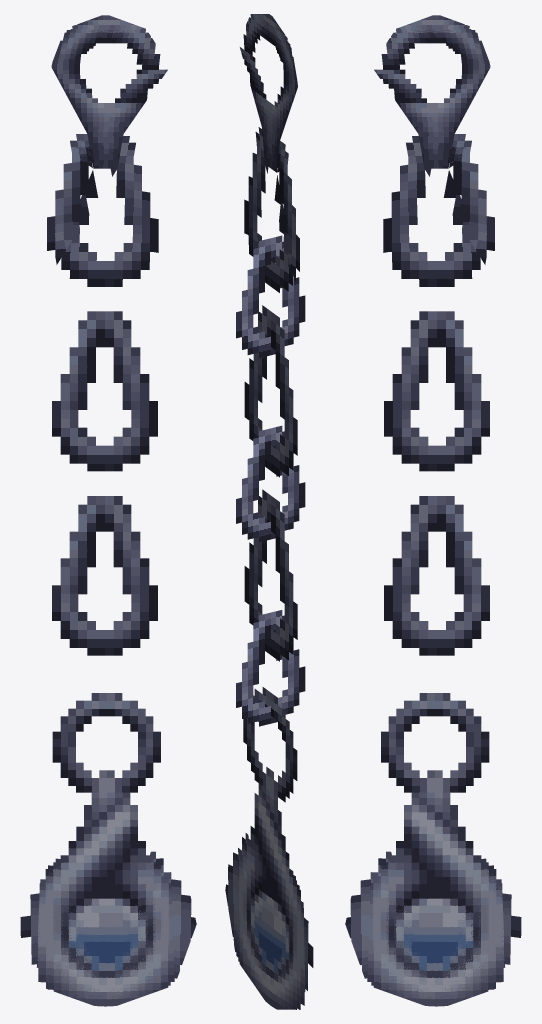
File: rainfell_keychain.obj
3 renders of one model, left to right at view 1: azimuth 90°, elevation 25°; view 2: azimuth 210°, elevation 25°; view 3: azimuth 270°, elevation 25°, orthographic.
Visible parts, largest first — view 1: keychain; view 2: keychain; view 3: keychain.
Part boxes in pixels (x1,y1,x2,y2): keychain: (20, 15, 196, 1006); keychain: (225, 14, 313, 1009); keychain: (345, 15, 521, 1006).
Bounding box in the file's own units: 3.09 × 36.17 × 6.01.
